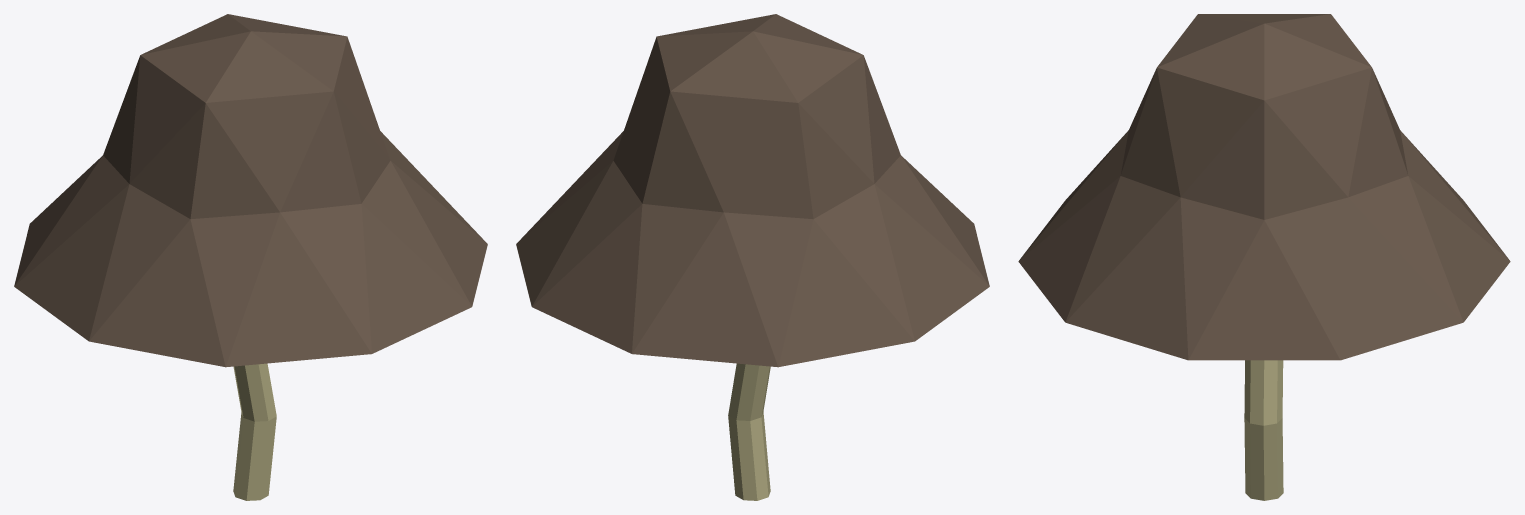
File: hat_mushroom_brown.fbx
The picture shows the model from 3 angles, left to right: view 1: azimuth 30°, elevation 25°; view 2: azimuth 150°, elevation 25°; view 3: azimuth 270°, elevation 25°; orthographic projection.
Visible parts, largest first — view 1: hat_mushroom_brown; view 2: hat_mushroom_brown; view 3: hat_mushroom_brown.
Part boxes in pixels (x1,y1,x2,y2): hat_mushroom_brown: (14, 14, 487, 500); hat_mushroom_brown: (516, 14, 989, 500); hat_mushroom_brown: (1018, 14, 1510, 500).
Bounding box in the file's own units: 74.49 × 82.43 × 78.32.
